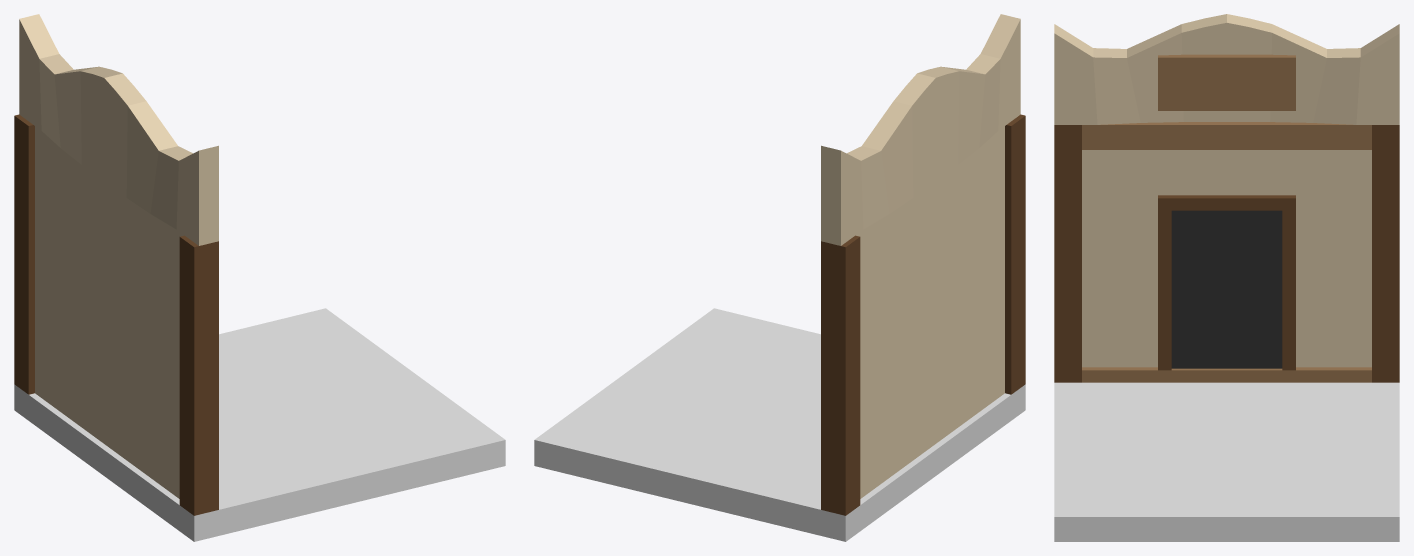
Rendered from tile1wallA (2).fbx.
The picture shows the model from 3 angles, left to right: view 1: azimuth 30°, elevation 25°; view 2: azimuth 150°, elevation 25°; view 3: azimuth 270°, elevation 25°; orthographic projection. The views are drawn at different scales.
Visible parts, largest first — view 1: Cube, Cube.005, Cube.038, Cube.003, Cube.004; view 2: Cube, Cube.005, Cube.038, Cube.004, Cube.003; view 3: Cube, Cube.005, Cube.038, Cube.025, Cube.013, Cube.039, Cube.003, Cube.004, Cube.014, Cube.023, Cube.024, Cube.022.
Boxes of the visible parts, x1,y1,x2,y2 form: Cube: (14,308,505,541); Cube.005: (35,126,184,498); Cube.038: (19,14,218,245); Cube.003: (179,235,218,515); Cube.004: (14,114,34,394); Cube: (534,308,1025,541); Cube.005: (855,126,1004,498); Cube.038: (821,14,1020,245); Cube.004: (821,235,860,515); Cube.003: (1005,114,1025,394); Cube: (1054,382,1399,541); Cube.005: (1082,150,1371,367); Cube.038: (1054,14,1399,124); Cube.025: (1171,210,1282,368); Cube.013: (1082,122,1371,149); Cube.039: (1158,54,1295,110); Cube.003: (1054,125,1081,382); Cube.004: (1372,125,1399,382); Cube.014: (1082,367,1371,382); Cube.023: (1158,210,1171,370); Cube.024: (1282,210,1295,370); Cube.022: (1158,195,1295,210).
Size of the model in its own units: 500 by 611 by 500.
2 materials, 1 textured.
